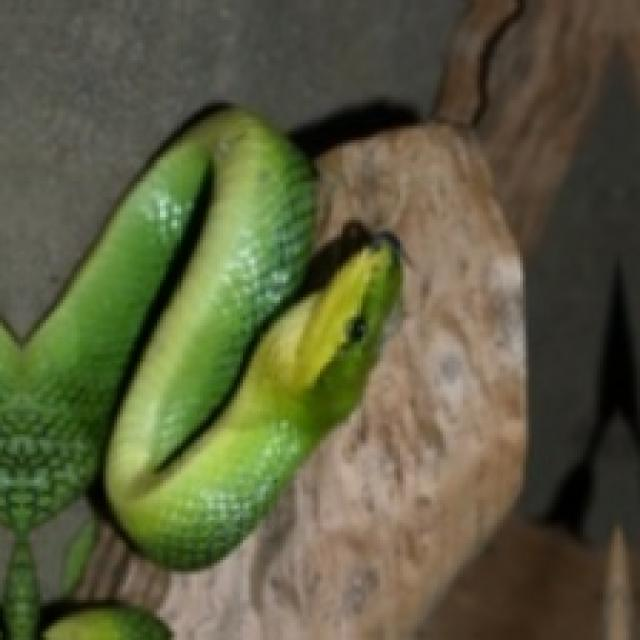red-tailed green ratsnake: (0, 106, 397, 637)
